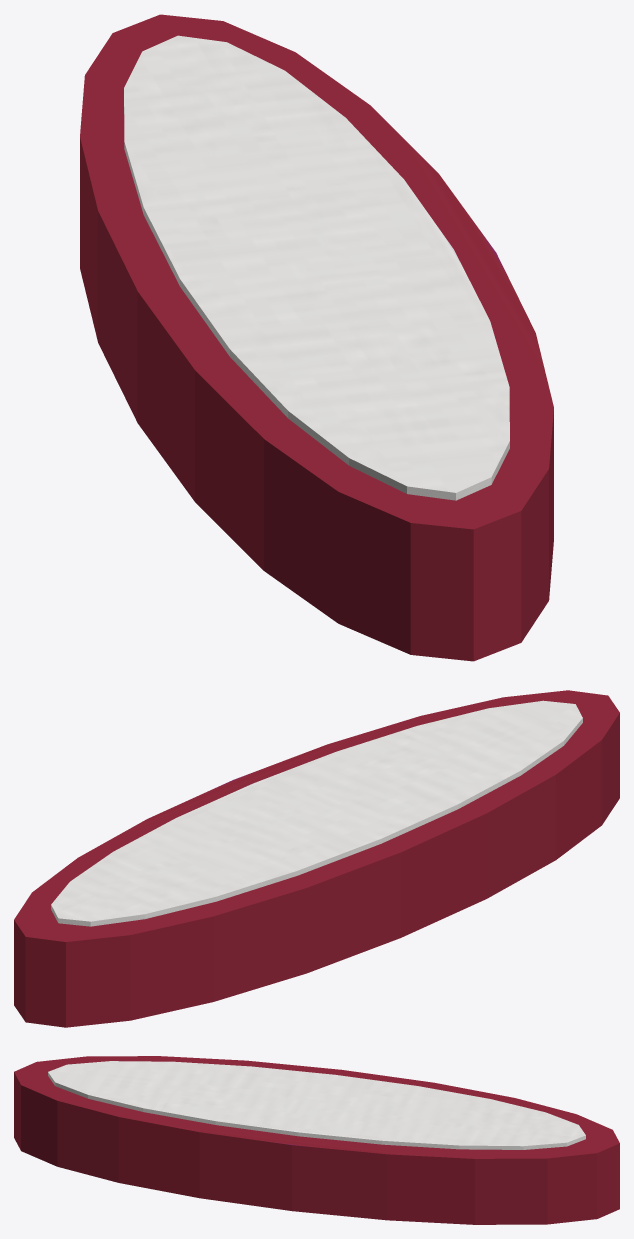
The model's file is flipizq.obj.
The picture shows the model from 3 angles, top to bottom: view 1: azimuth 30°, elevation 25°; view 2: azimuth 150°, elevation 25°; view 3: azimuth 270°, elevation 25°; orthographic projection. The views are drawn at different scales.
Visible parts, largest first — view 1: flipizq_PinballNuevo:phong1SG6, flipizq_PinballNuevo:phong2SG3; view 2: flipizq_PinballNuevo:phong1SG6, flipizq_PinballNuevo:phong2SG3; view 3: flipizq_PinballNuevo:phong1SG6, flipizq_PinballNuevo:phong2SG3.
Part boxes in pixels (left/top/right/bottom): flipizq_PinballNuevo:phong1SG6: left=80, top=14, right=553, bottom=661; flipizq_PinballNuevo:phong2SG3: left=124, top=35, right=509, bottom=500; flipizq_PinballNuevo:phong1SG6: left=14, top=690, right=619, bottom=1027; flipizq_PinballNuevo:phong2SG3: left=51, top=700, right=582, bottom=926; flipizq_PinballNuevo:phong1SG6: left=14, top=1056, right=619, bottom=1224; flipizq_PinballNuevo:phong2SG3: left=48, top=1061, right=585, bottom=1149.
Bounding box in the file's own units: 0.4813 × 0.1524 × 1.2.
Materials: 2 (2 with a texture image).
